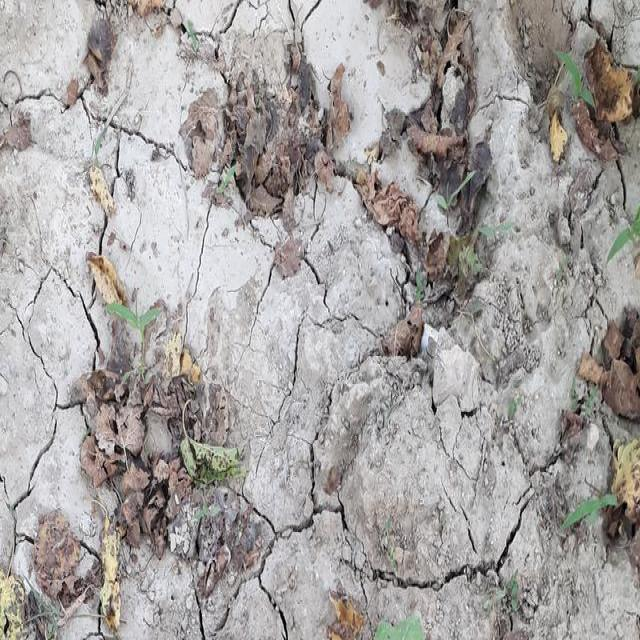weed: (415, 178, 476, 270), (608, 182, 640, 300), (534, 496, 620, 527), (564, 62, 598, 117), (105, 307, 167, 335)
